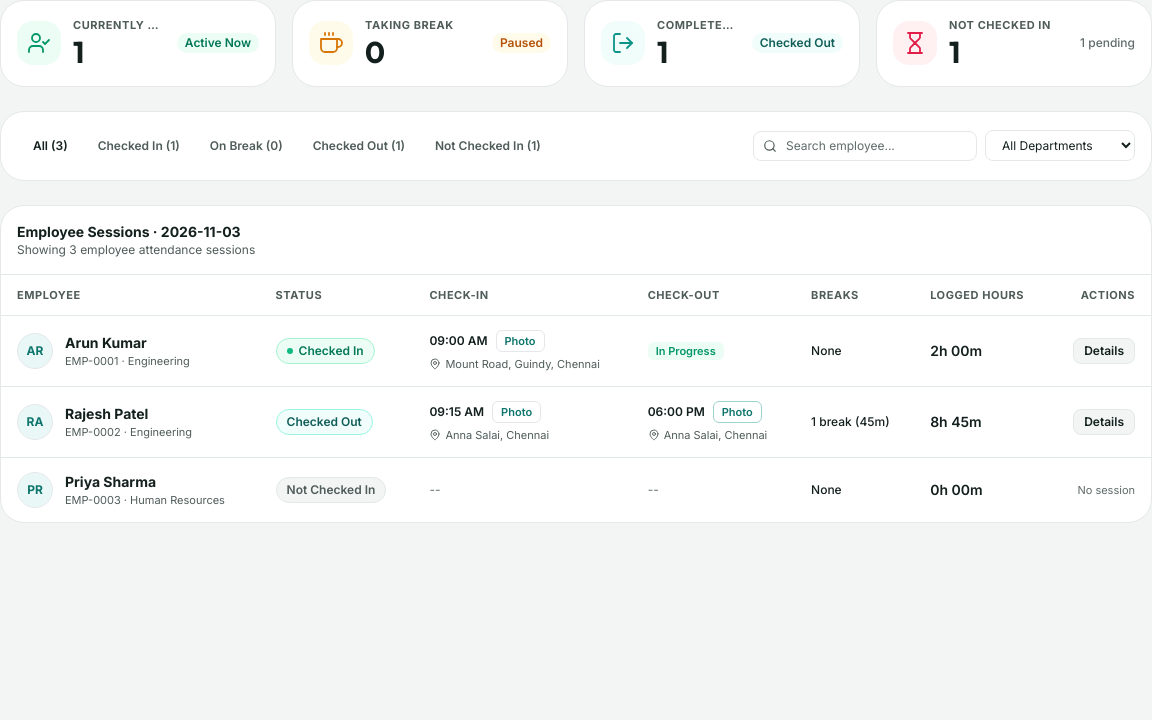
it: CompanyCheckInOutTab › photos › says so when the photo cannot be loaded, instead of showing a broken image
Click the button titled "View Check-In Photo" next to "09:00 AM" at (520, 340), box [496,330,544,352]
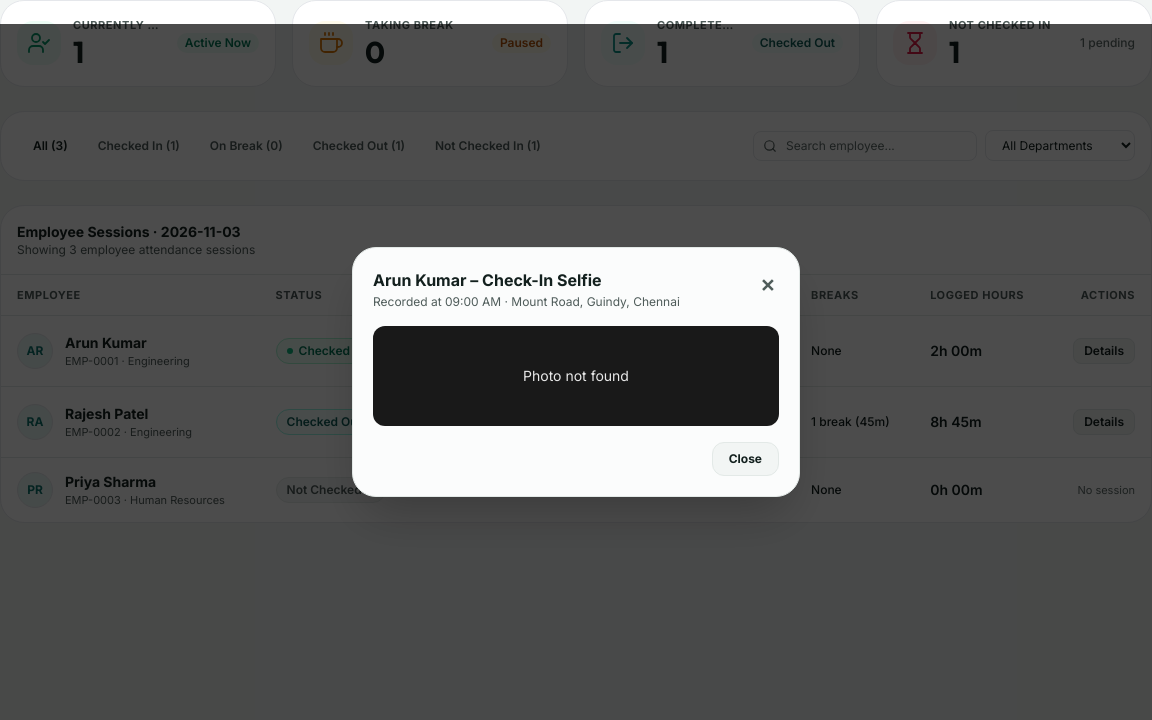
Expected: the message reads "Photo not found", [523,367,629,384]
